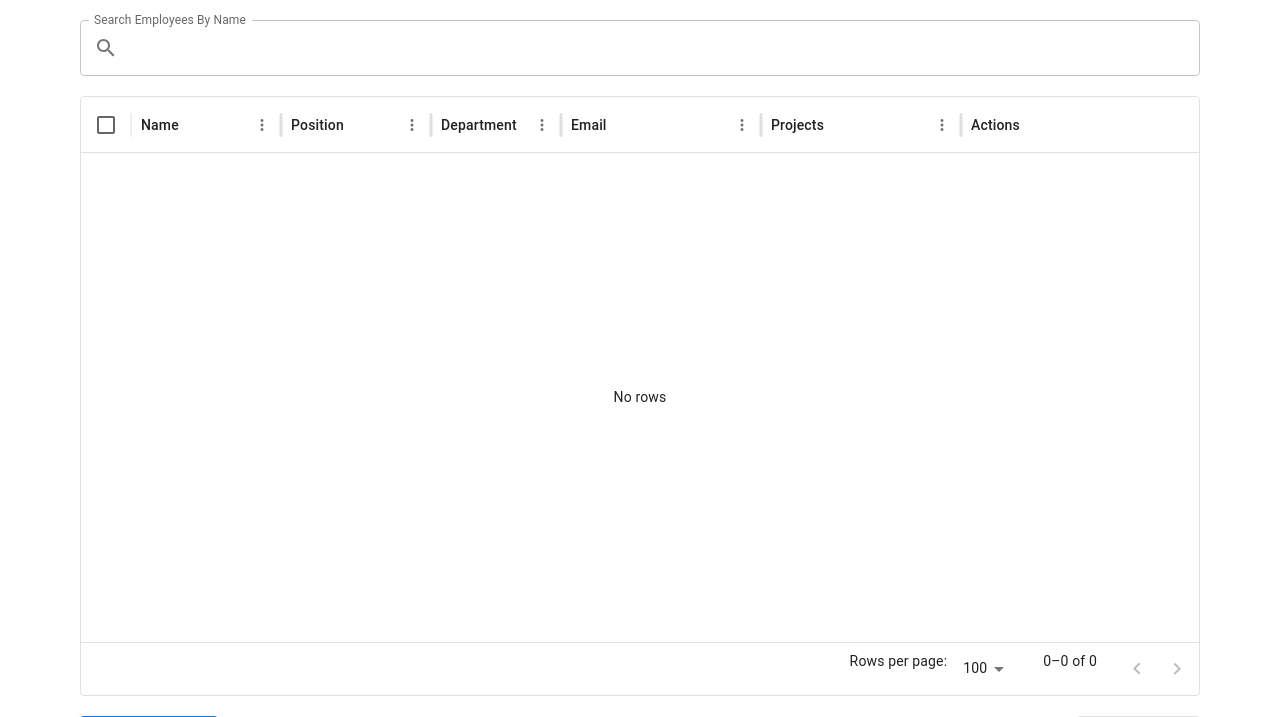
Test: ListEmployeesComponent › handles search text clearing
In the field labelled "Search Employees By Name": (663, 48) [126, 20, 1200, 76], type "John"
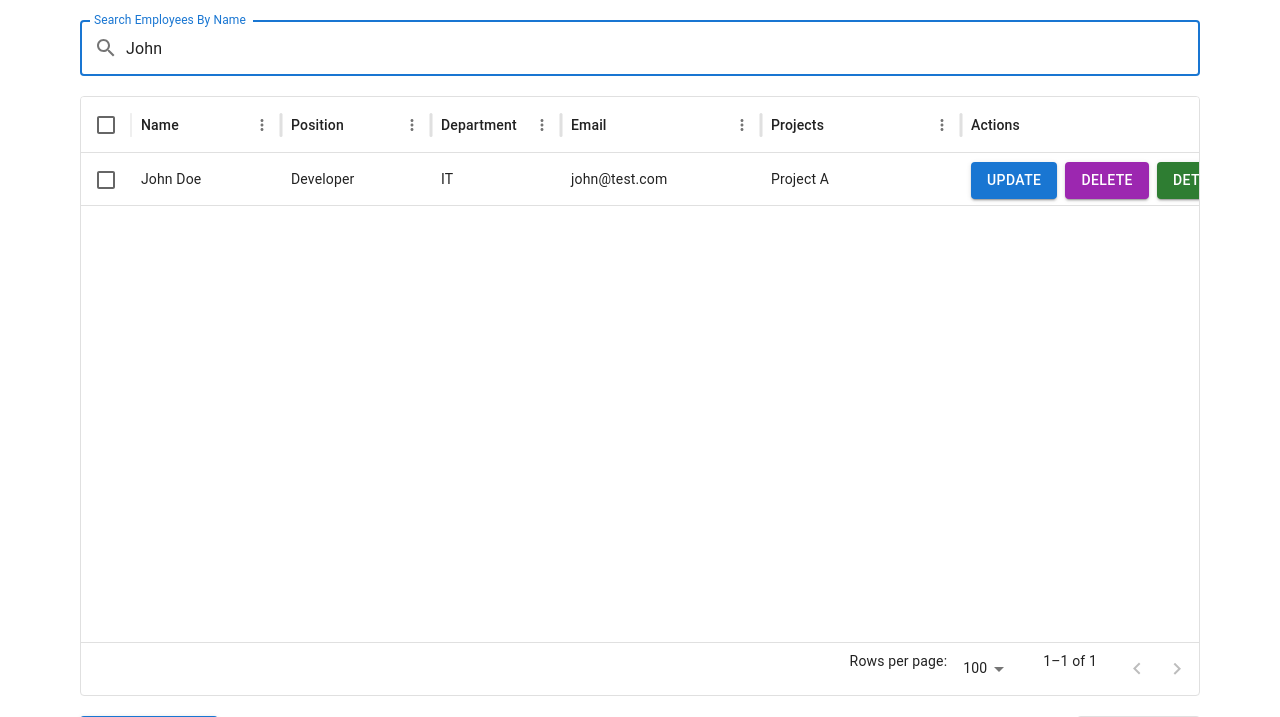
Clear the field labelled "Search Employees By Name": (663, 48) [126, 20, 1200, 76]
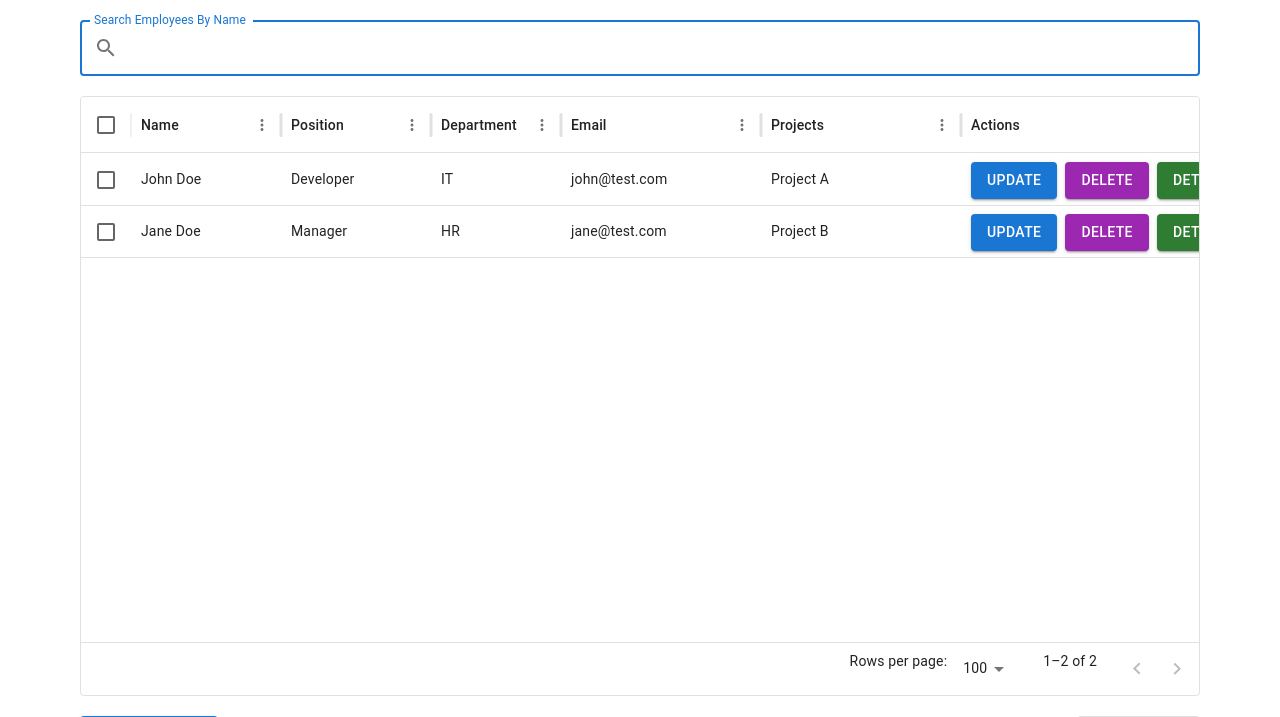
Expected: the text "John Doe" is shown, [141, 171, 201, 187]
Expected: the text "Jane Doe" is shown, [131, 205, 281, 257]
